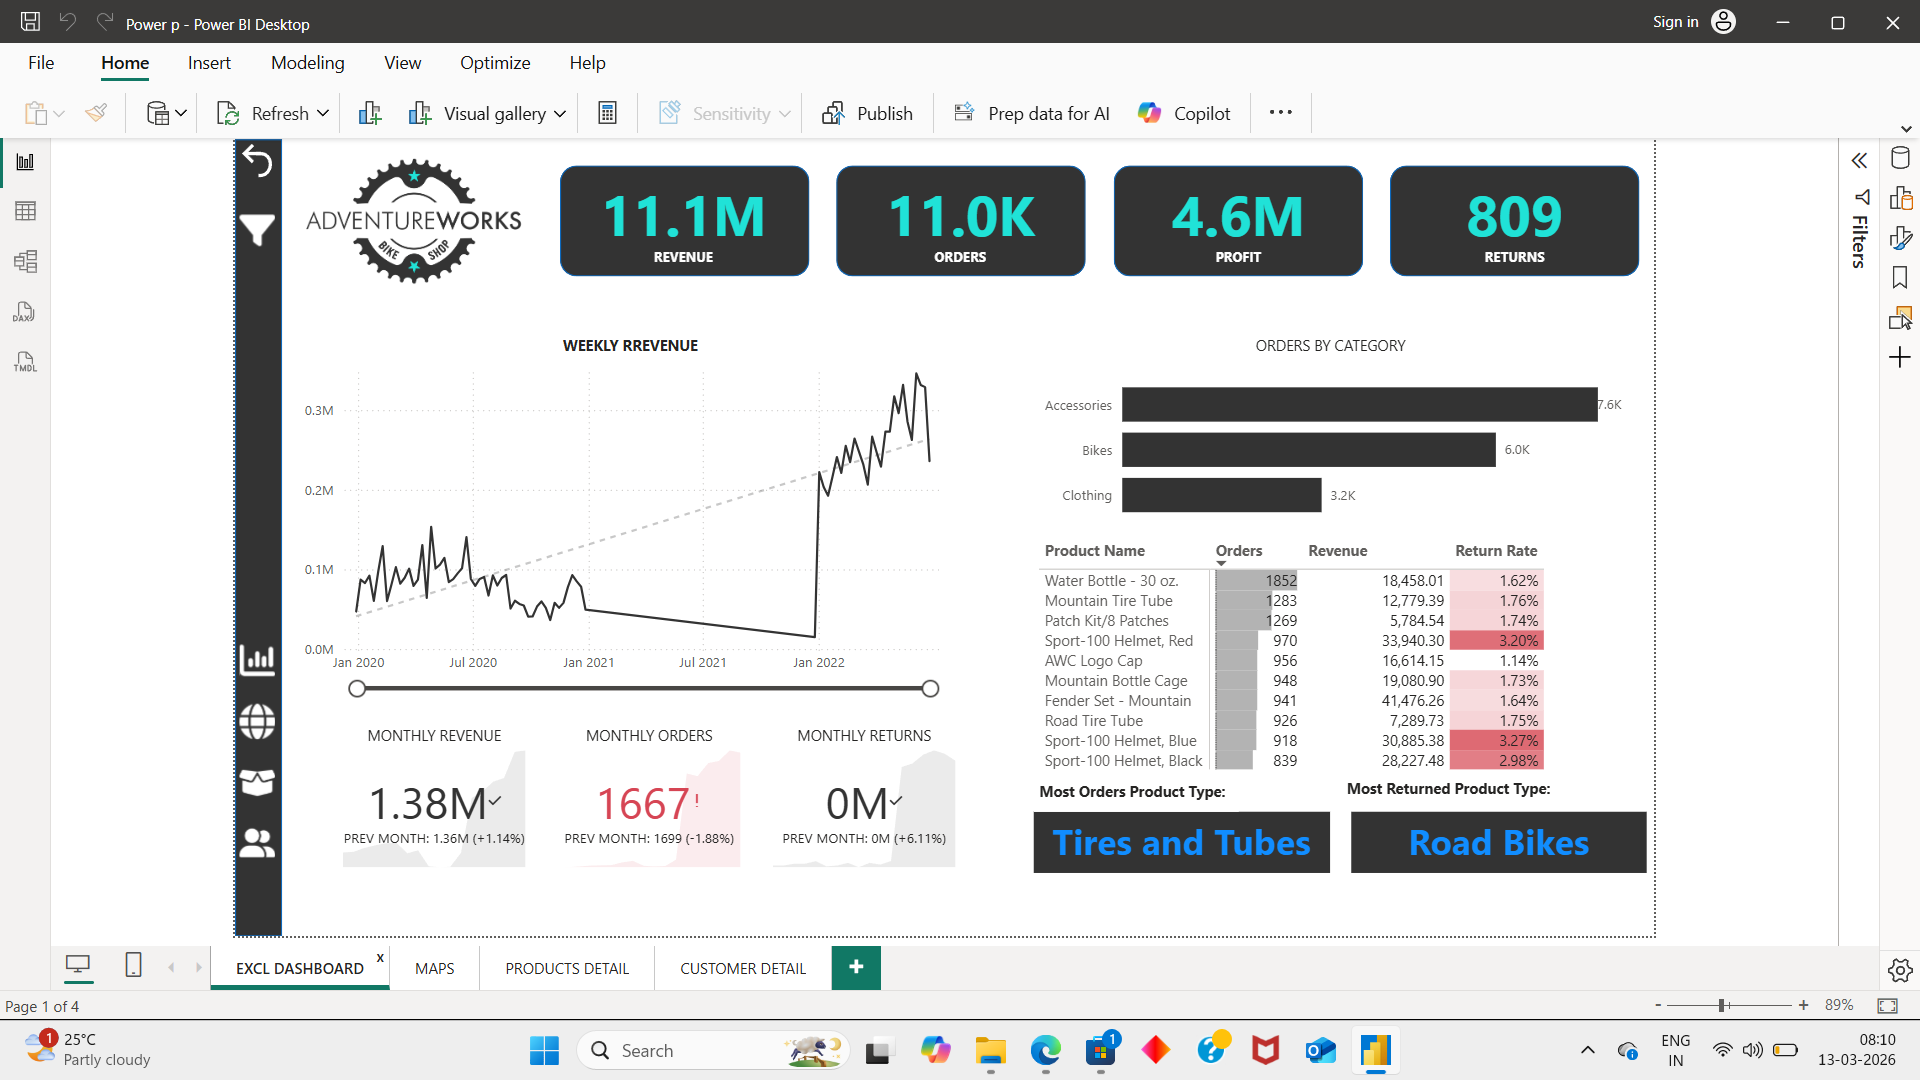

Layout of this report page (visuals, bound fields, positions):
{"tool":"powerbi","page":{"name":"EXCL DASHBOARD","canvas":[1280,720],"ordinal":0},"visuals":[{"type":"card","fields":{"Values":["Measure Table.Total Revenue"]},"box":[286.3,0,236.7,149.9],"z":0,"group":"g2"},{"type":"image","box":[42.5,16.2,237.5,118.8],"z":0},{"type":"group","id":"g1","title":"KPI'S BACKGROUND","box":[292.5,25,973.8,100],"z":0,"group":"g3"},{"type":"shape","box":[292.5,25,225,100],"z":0,"group":"g1"},{"type":"group","id":"g2","title":"KPI'S CARDS","box":[286.3,0,986.2,149.9],"z":1000,"group":"g3"},{"type":"card","fields":{"Values":["Measure Table.Total Profit"]},"box":[786.4,0,236.7,149.9],"z":1000,"group":"g2"},{"type":"shape","box":[542.1,25,225,100],"z":1000,"group":"g1"},{"type":"actionButton","box":[226.2,0,41.6,40.4],"z":2000},{"type":"card","fields":{"Values":["Measure Table.Total Orders"]},"box":[535.8,0,237.8,149.9],"z":2000,"group":"g2"},{"type":"shape","box":[791.7,25,225,100],"z":2000,"group":"g1"},{"type":"card","fields":{"Values":["Measure Table.Total Returns"]},"box":[1035.8,0,236.7,149.9],"z":3000,"group":"g2"},{"type":"shape","box":[1041.3,25,225,100],"z":3000,"group":"g1"},{"type":"actionButton","box":[226.2,7.3,41.6,33],"z":4000},{"type":"actionButton","box":[217.7,0,50.1,40.4],"z":5000},{"type":"shape","box":[0,1.2,42.5,718.8],"z":6000},{"type":"group","id":"g3","title":"KPI'S","box":[286.3,0,986.2,149.9],"z":7000},{"type":"lineChart","title":"WEEKLY RREVENUE","fields":{"Category":["Calendar Lookup.Start of Week.Variation.Date Hierarchy.Year","Calendar Lookup.Start of Week.Variation.Date Hierarchy.Quarter","Calendar Lookup.Start of Week.Variation.Date Hierarchy.Month","Calendar Lookup.Start of Week.Variation.Date Hierarchy.Day"],"Y":["Measure Table.Total Revenue"]},"box":[57.5,178.5,598,328.9],"z":8000},{"type":"kpi","title":"MONTHLY REVENUE","fields":{"Goal":["Measure Table.Previous Month Revenue"],"Indicator":["Measure Table.Total Revenue"],"TrendLine":["Calendar Lookup.Start of Month"]},"box":[92.4,529.7,174.7,133],"z":9000},{"type":"kpi","title":"MONTHLY RETURNS","fields":{"Goal":["Measure Table.Previous Month Returns"],"Indicator":["Measure Table.Total Returns"],"TrendLine":["Calendar Lookup.Start of Month"]},"box":[480.2,529.7,174.7,133],"z":10000},{"type":"kpi","title":"MONTHLY ORDERS","fields":{"Goal":["Measure Table.Previous Month Orders"],"Indicator":["Measure Table.Total Orders"],"TrendLine":["Calendar Lookup.Start of Month"]},"box":[286.3,529.7,174.7,133],"z":11000},{"type":"clusteredBarChart","title":"ORDERS BY CATEGORY","fields":{"Category":["Product Categories Lookup.CategoryName"],"Y":["Measure Table.Total Orders"]},"box":[720.2,178.1,535.4,182.6],"z":12000},{"type":"pivotTable","fields":{"Rows":["Product Lookup.ProductName"],"Values":["Measure Table.Total Orders","Measure Table.Total Revenue","Measure Table.Return Rate"]},"box":[720.2,357.3,520.7,217.5],"z":13000},{"type":"card","fields":{"Values":["Min(Product Subcategories Lookup.SubcategoryName)"]},"box":[720.2,607.5,267.1,55.2],"z":14000},{"type":"textbox","box":[720.2,574.7,184.6,33],"z":15000},{"type":"card","fields":{"Values":["Min(Product Subcategories Lookup.SubcategoryName)"]},"box":[1006.4,607.7,266.6,55],"z":16000},{"type":"textbox","box":[997.8,572.3,199.3,33],"z":17000},{"type":"actionButton","box":[0,0,42.8,40.4],"z":18000},{"type":"actionButton","box":[0,451.2,42.8,40.4],"z":19000},{"type":"actionButton","box":[0,506.3,42.8,40.4],"z":20000},{"type":"actionButton","box":[0,561.3,42.8,40.4],"z":21000},{"type":"actionButton","box":[0,615.1,42.8,40.4],"z":22000},{"type":"actionButton","box":[0,63.6,42.8,40.4],"z":23000}]}

Visuals, with their boxes on the page's 1280x720 design canvas (x1, y1, x2, y2). These are canvas units, not pixel positions in the 1920x1080 screenshot, which may show the page scaled, cropped or inside an application window:
card - Measure Table.Total Revenue: (x1=286, y1=0, x2=523, y2=150)
image: (x1=42, y1=16, x2=280, y2=135)
"KPI'S BACKGROUND" group: (x1=292, y1=25, x2=1266, y2=125)
shape: (x1=292, y1=25, x2=518, y2=125)
"KPI'S CARDS" group: (x1=286, y1=0, x2=1272, y2=150)
card - Measure Table.Total Profit: (x1=786, y1=0, x2=1023, y2=150)
shape: (x1=542, y1=25, x2=767, y2=125)
actionButton: (x1=226, y1=0, x2=268, y2=40)
card - Measure Table.Total Orders: (x1=536, y1=0, x2=774, y2=150)
shape: (x1=792, y1=25, x2=1017, y2=125)
card - Measure Table.Total Returns: (x1=1036, y1=0, x2=1272, y2=150)
shape: (x1=1041, y1=25, x2=1266, y2=125)
actionButton: (x1=226, y1=7, x2=268, y2=40)
actionButton: (x1=218, y1=0, x2=268, y2=40)
shape: (x1=0, y1=1, x2=42, y2=720)
"KPI'S" group: (x1=286, y1=0, x2=1272, y2=150)
"WEEKLY RREVENUE" lineChart: (x1=58, y1=178, x2=656, y2=507)
"MONTHLY REVENUE" kpi: (x1=92, y1=530, x2=267, y2=663)
"MONTHLY RETURNS" kpi: (x1=480, y1=530, x2=655, y2=663)
"MONTHLY ORDERS" kpi: (x1=286, y1=530, x2=461, y2=663)
"ORDERS BY CATEGORY" clusteredBarChart: (x1=720, y1=178, x2=1256, y2=361)
pivotTable - Product Lookup.ProductName x Measure Table.Total Orders: (x1=720, y1=357, x2=1241, y2=575)
card - Min(Product Subcategories Lookup.SubcategoryName): (x1=720, y1=608, x2=987, y2=663)
textbox: (x1=720, y1=575, x2=905, y2=608)
card - Min(Product Subcategories Lookup.SubcategoryName): (x1=1006, y1=608, x2=1273, y2=663)
textbox: (x1=998, y1=572, x2=1197, y2=605)
actionButton: (x1=0, y1=0, x2=43, y2=40)
actionButton: (x1=0, y1=451, x2=43, y2=492)
actionButton: (x1=0, y1=506, x2=43, y2=547)
actionButton: (x1=0, y1=561, x2=43, y2=602)
actionButton: (x1=0, y1=615, x2=43, y2=656)
actionButton: (x1=0, y1=64, x2=43, y2=104)
